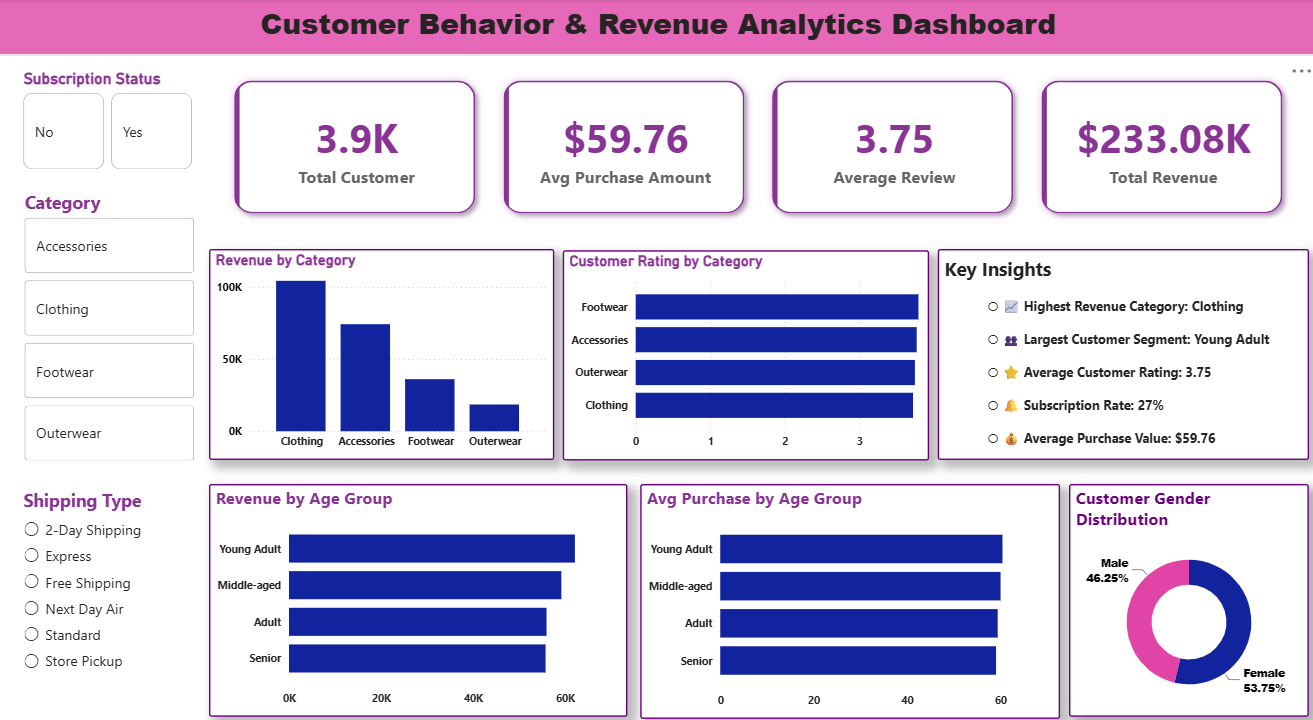

Layout of this report page (visuals, bound fields, positions):
{"tool":"powerbi","page":{"name":"Page 1","canvas":[1500,820],"ordinal":0},"visuals":[{"type":"cardVisual","fields":{"Data":["public customer.Total Customer","public customer.Average Purchase Amount","public customer.Average Review Rating","public customer.Total Revenue"]},"box":[238.9,64,1251.4,209],"z":0},{"type":"textbox","box":[0,0,1500.3,64.3],"z":1000},{"type":"columnChart","title":"Revenue by Category","fields":{"Category":["public customer.category"],"Y":["Sum(public customer.purchase_amount)"]},"box":[238.9,284.4,392.5,240.3],"z":5000},{"type":"clusteredBarChart","title":"Customer Rating by Category","fields":{"Category":["public customer.category"],"Y":["public customer.Average Review"]},"box":[640.8,285.2,416.7,238.9],"z":7000,"group":"g1"},{"type":"barChart","title":"Revenue by Age Group","fields":{"Category":["public customer.age_group"],"Y":["Sum(public customer.purchase_amount)"]},"box":[239,551.1,476.4,264.5],"z":10000,"group":"g2"},{"type":"advancedSlicerVisual","title":"Subscription Status","fields":{"Values":["public customer.subscription_status"]},"box":[22.8,79.6,203.4,119.5],"z":13000},{"type":"listSlicer","title":"Shipping Type","fields":{"Values":["public customer.shipping_type"]},"box":[22.8,556,203.4,241.8],"z":15000},{"type":"advancedSlicerVisual","title":"Category","fields":{"Values":["public customer.category"]},"box":[24.2,217.6,203.4,315.7],"z":16000},{"type":"barChart","title":"Avg Purchase by Age Group","fields":{"Category":["public customer.age_group"],"Y":["public customer.Avg Purchase Amount"]},"box":[730.2,552.1,477.8,267.4],"z":16001,"group":"g3"},{"type":"group","id":"g1","title":"Group 3","box":[640.8,285.2,416.7,238.9],"z":16004},{"type":"group","id":"g2","title":"Group 4","box":[239,551.1,476.4,264.5],"z":16005},{"type":"group","id":"g3","title":"Group 5","box":[730.2,552.1,477.8,267.4],"z":16006},{"type":"donutChart","title":"Customer Gender Distribution","fields":{"Y":["Sum(public customer.customer_id)"],"Category":["public customer.gender"]},"box":[1217.3,551.8,273,264.5],"z":16007},{"type":"textbox","box":[1068,284.4,422.4,240.3],"z":16008}]}

Visuals, with their boxes in screenshot pixels (x1, y1, x2, y2), scaled from the page's 1500x820 canvas onto the 1313x720 screenshot:
cardVisual - public customer.Total Customer x public customer.Average Purchase Amount: rect(209, 56, 1305, 240)
textbox: rect(0, 0, 1312, 56)
"Revenue by Category" columnChart: rect(209, 250, 553, 461)
"Customer Rating by Category" clusteredBarChart: rect(561, 250, 926, 460)
"Revenue by Age Group" barChart: rect(209, 484, 626, 716)
"Subscription Status" advancedSlicerVisual: rect(20, 70, 198, 175)
"Shipping Type" listSlicer: rect(20, 488, 198, 701)
"Category" advancedSlicerVisual: rect(21, 191, 199, 468)
"Avg Purchase by Age Group" barChart: rect(639, 485, 1057, 719)
"Group 3" group: rect(561, 250, 926, 460)
"Group 4" group: rect(209, 484, 626, 716)
"Group 5" group: rect(639, 485, 1057, 719)
"Customer Gender Distribution" donutChart: rect(1066, 485, 1305, 717)
textbox: rect(935, 250, 1305, 461)
